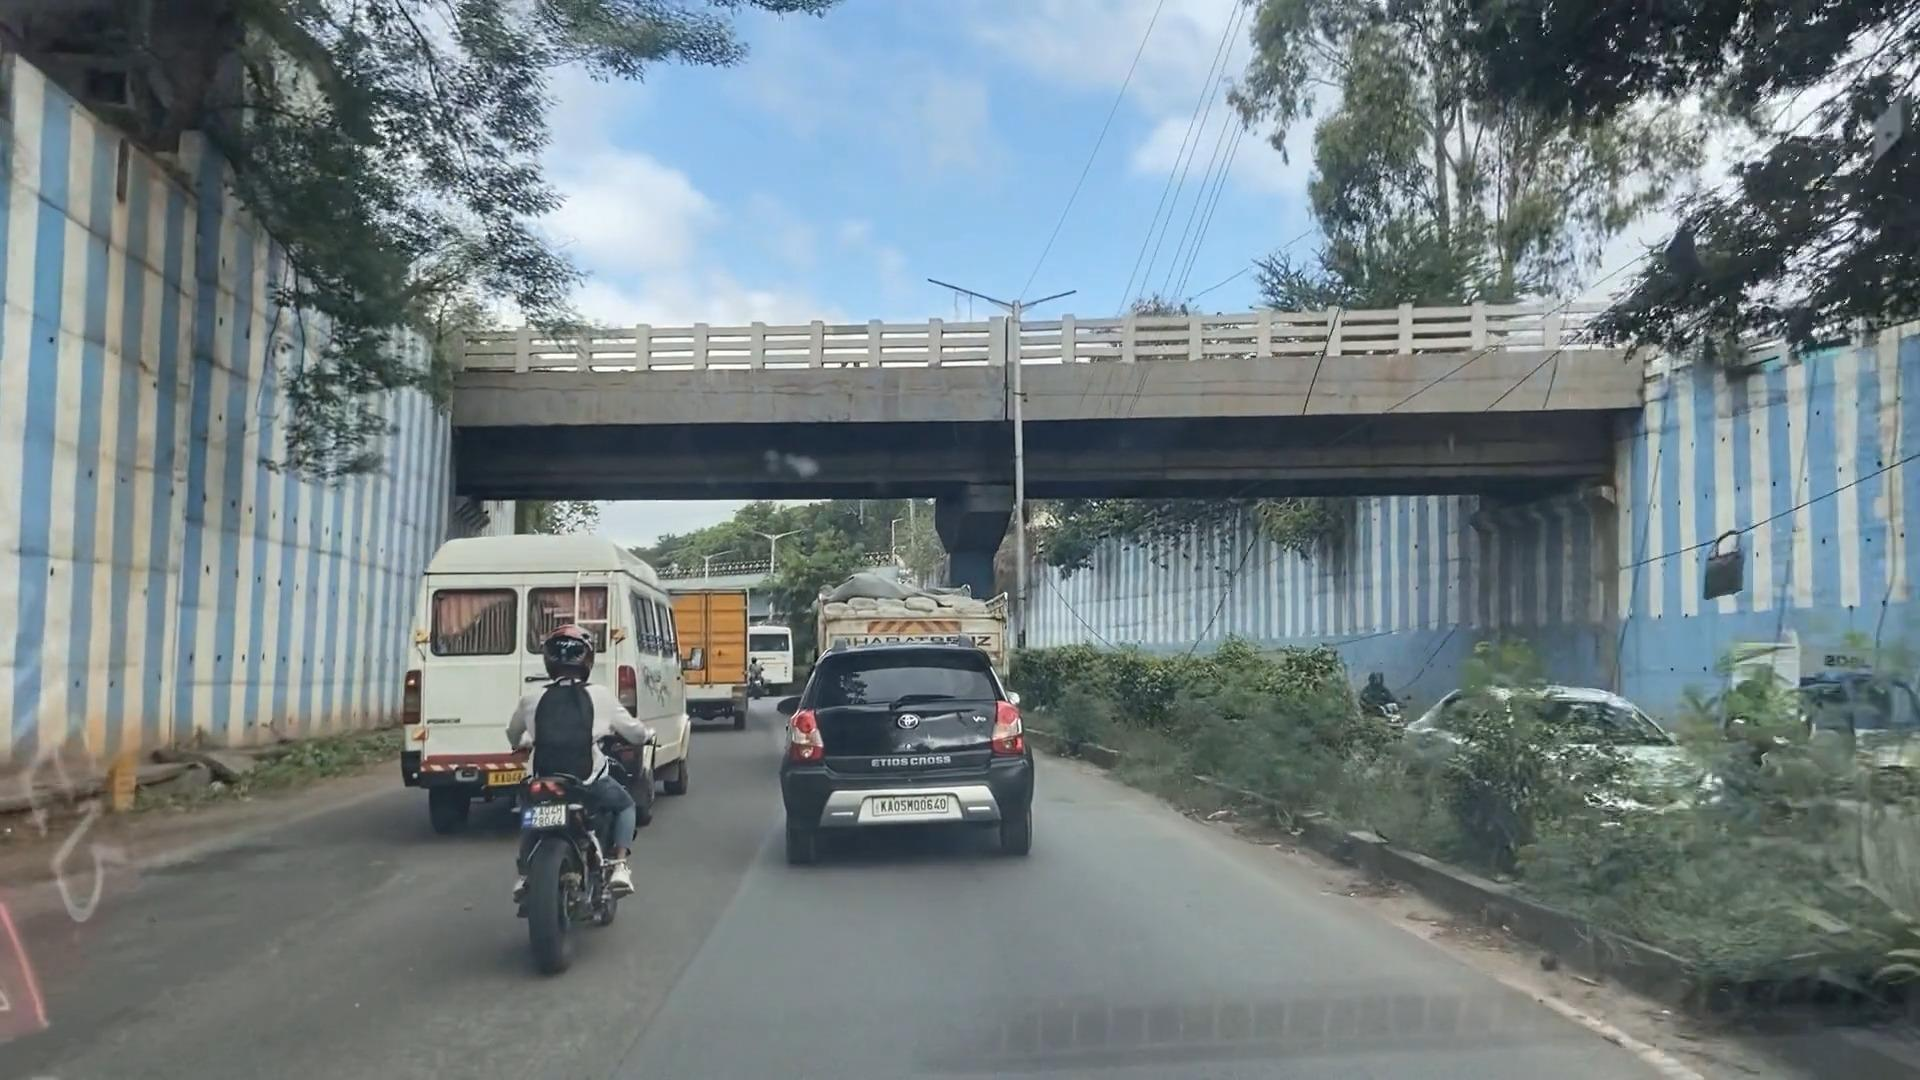HMV: (413, 539, 690, 808), (671, 584, 762, 720)
LMV: (782, 650, 1034, 872), (483, 644, 626, 998)
